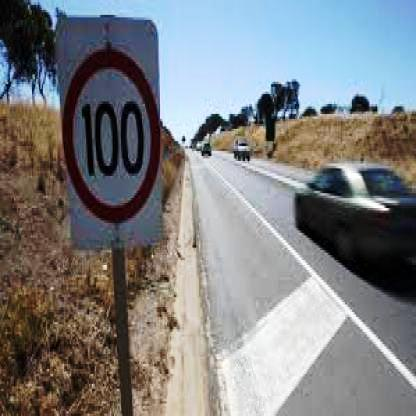Speed Limit -100-: (56, 50, 164, 228)
